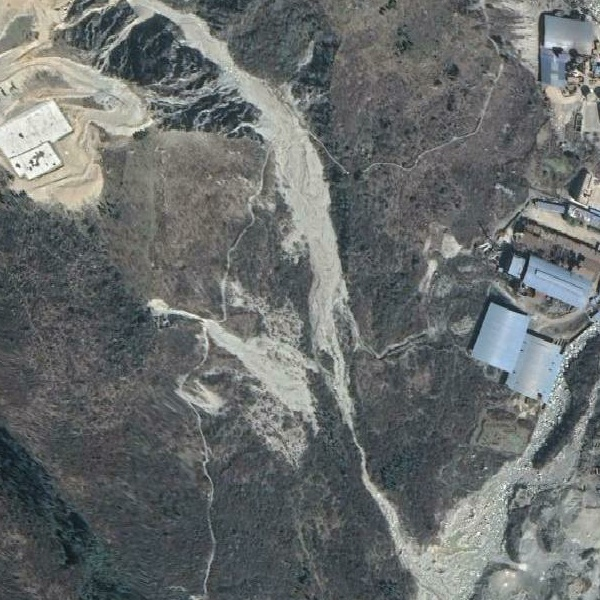slope: (144, 281, 317, 427), (170, 377, 227, 416)
